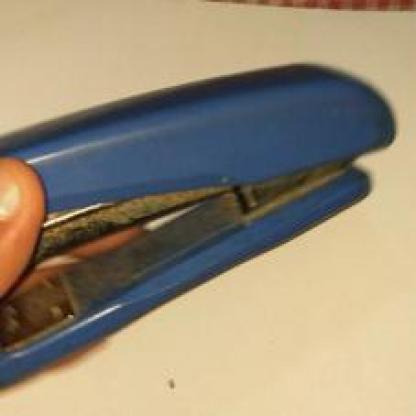stapler: (8, 46, 374, 347)
